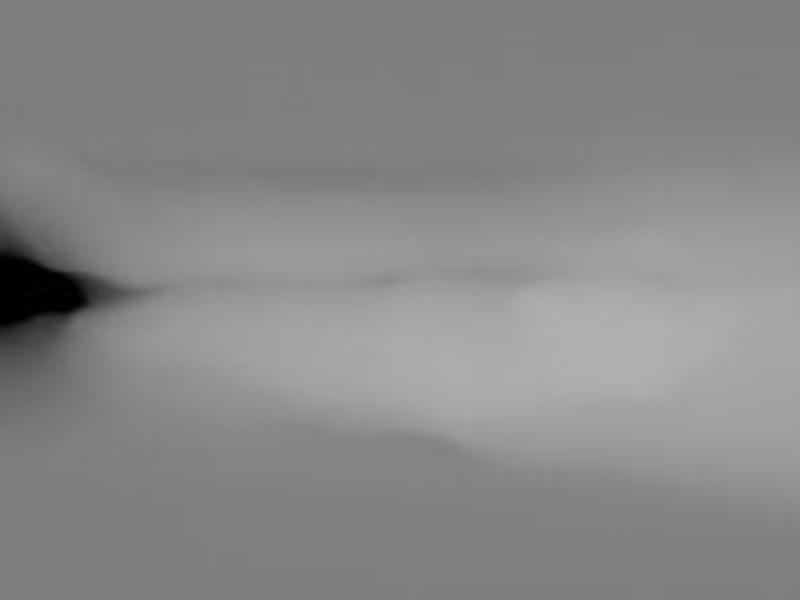defect: (2, 234, 88, 337)
